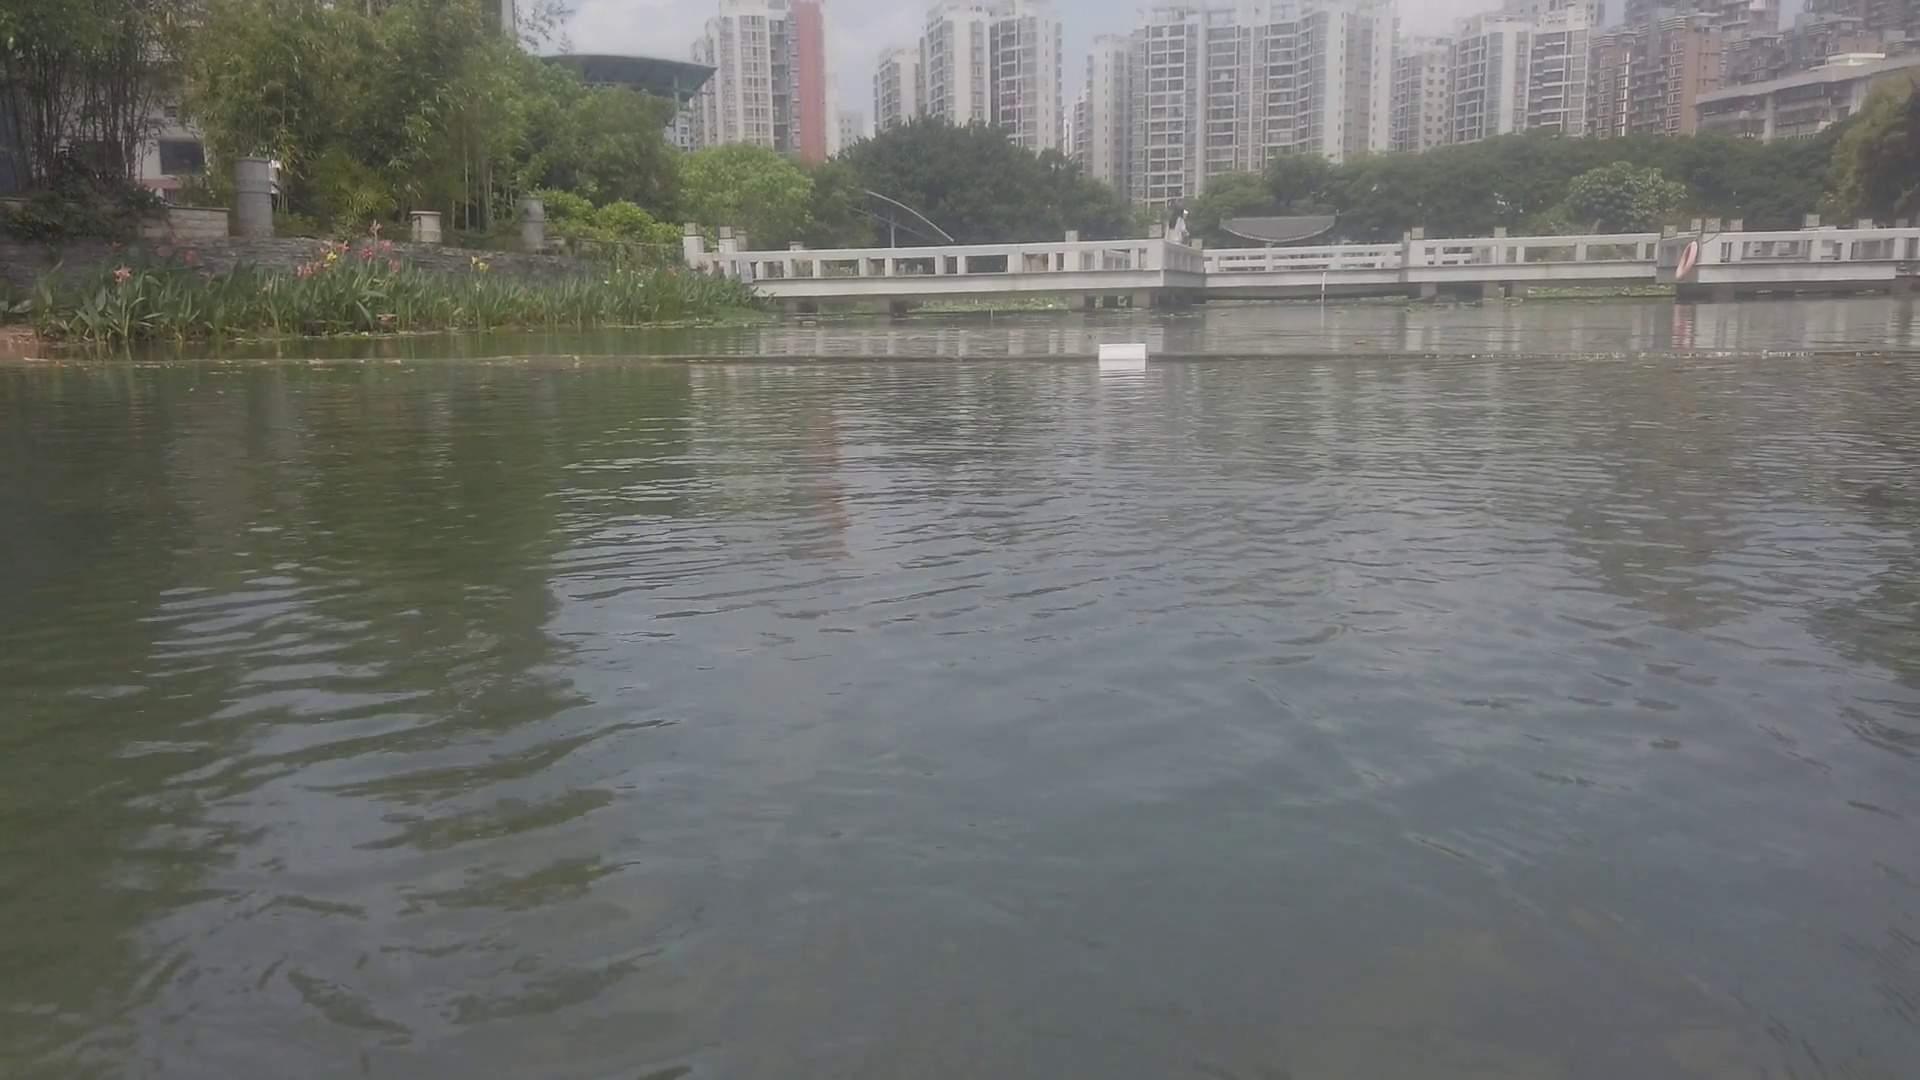carton: (1095, 339, 1150, 361)
